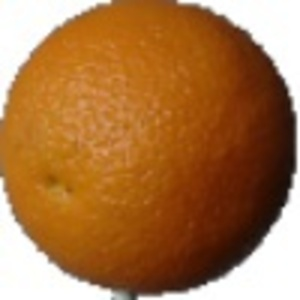laranja: (2, 2, 299, 299)
